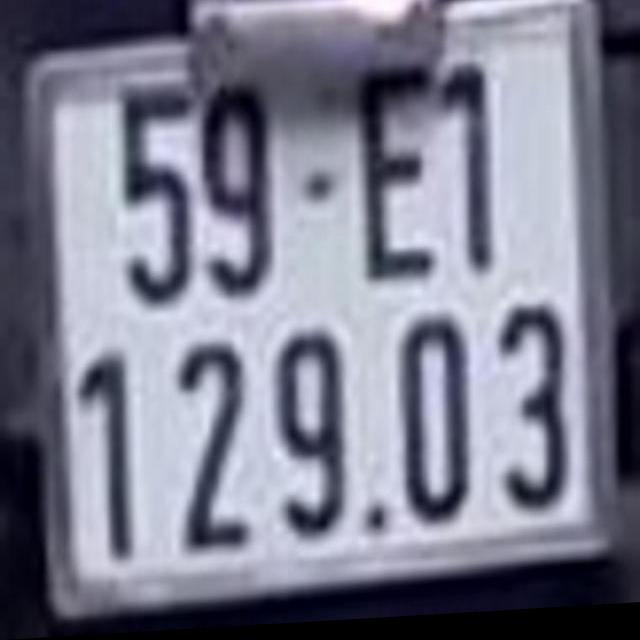0: (402, 313, 474, 525)
1: (70, 352, 150, 568), (448, 69, 500, 279)
2: (182, 335, 246, 546)
3: (496, 308, 574, 517)
5: (126, 93, 196, 303)
9: (200, 84, 270, 296), (279, 331, 342, 530)
E: (360, 68, 436, 282)
